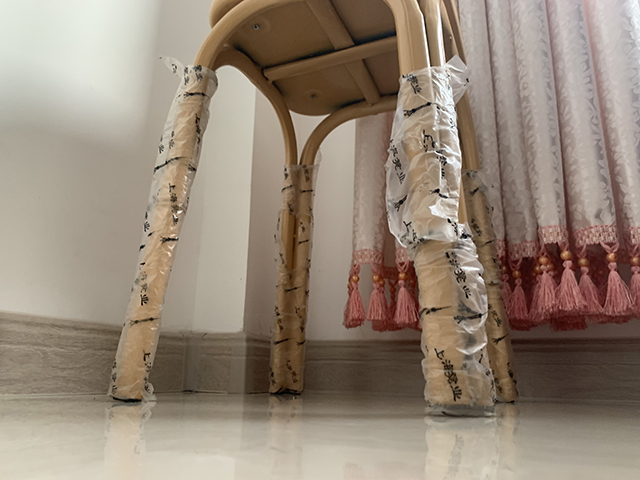curtain: (342, 1, 640, 335)
stool: (107, 1, 521, 422)
